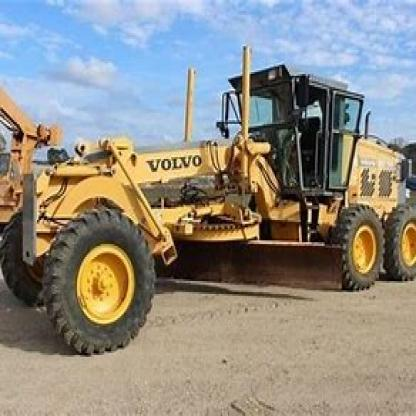bull_dozer/loader/grader: (7, 37, 415, 359)
